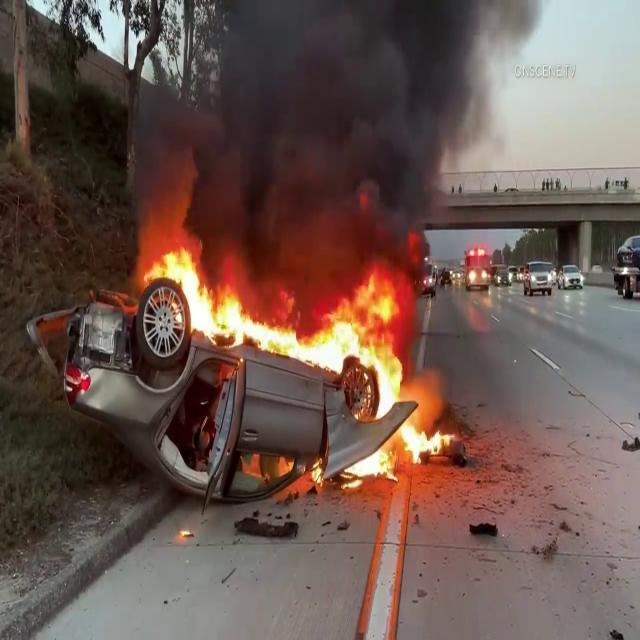Fire: (140, 240, 448, 384)
Smoke: (143, 1, 534, 260)
